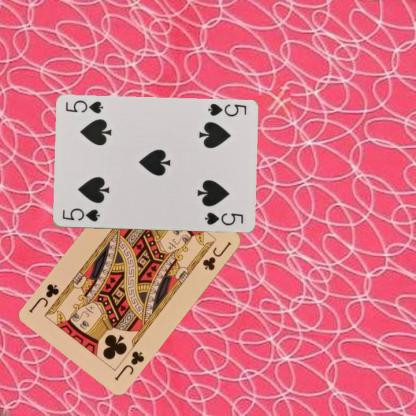5s: (204, 100, 247, 118), (60, 206, 101, 223)
Jc: (112, 348, 146, 381)
